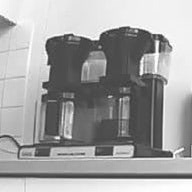not empty coffee: (91, 87, 147, 142)
